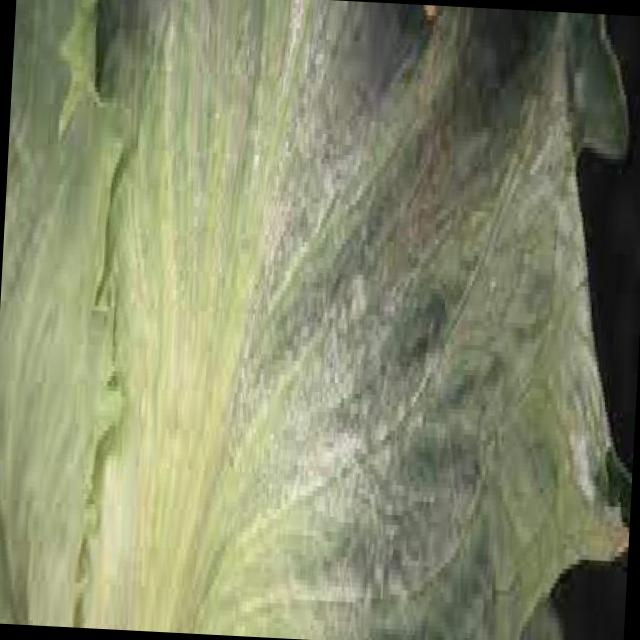Powdery_Mildew: (116, 25, 456, 630)
